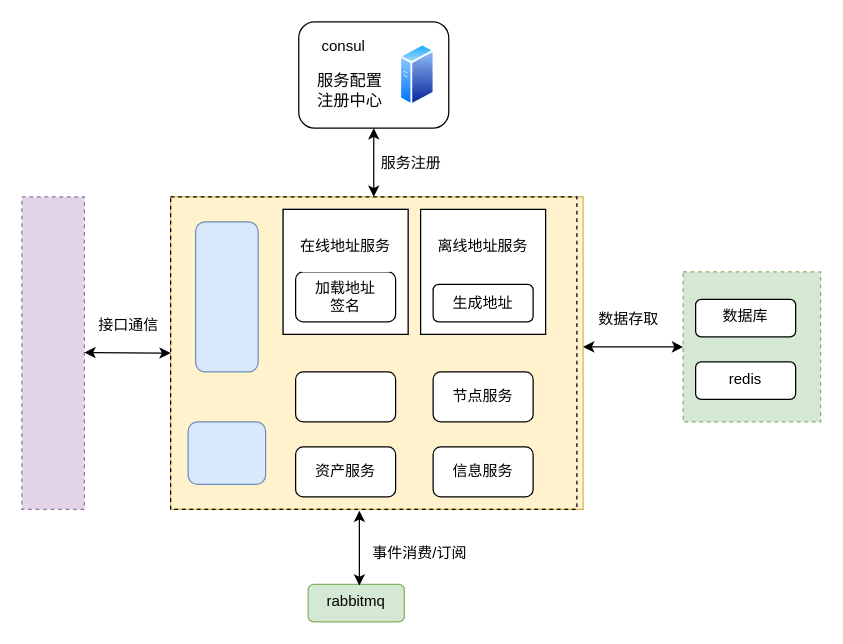
Some shapes in this 843 by 644 pixel diagram are drawn without their labels. Here are the shapes that lost their labels. From the top down, the box of each, then its label:
(194, 221, 258, 372): 微 服 务 集 群
(21, 196, 84, 509): API
(294, 371, 396, 422): 交易服务
(187, 421, 266, 484): go-micro
